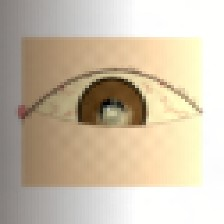corneal_ulcer: (94, 101, 133, 132)
